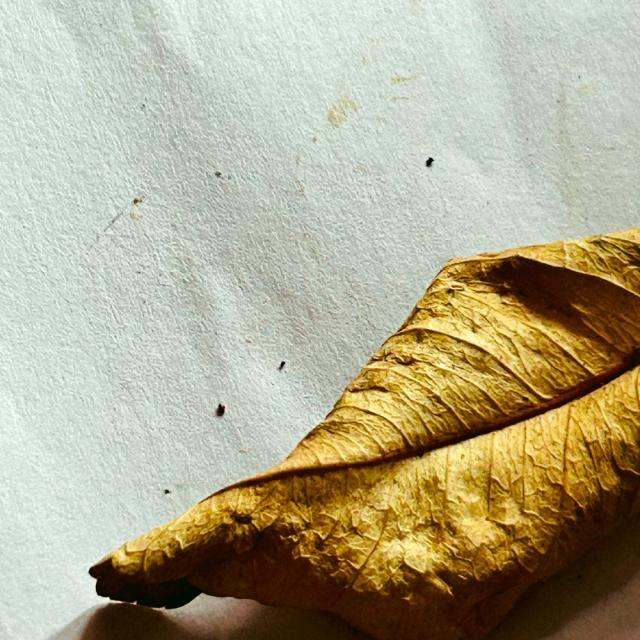DryLeaf_Lemon: (90, 230, 639, 639)
